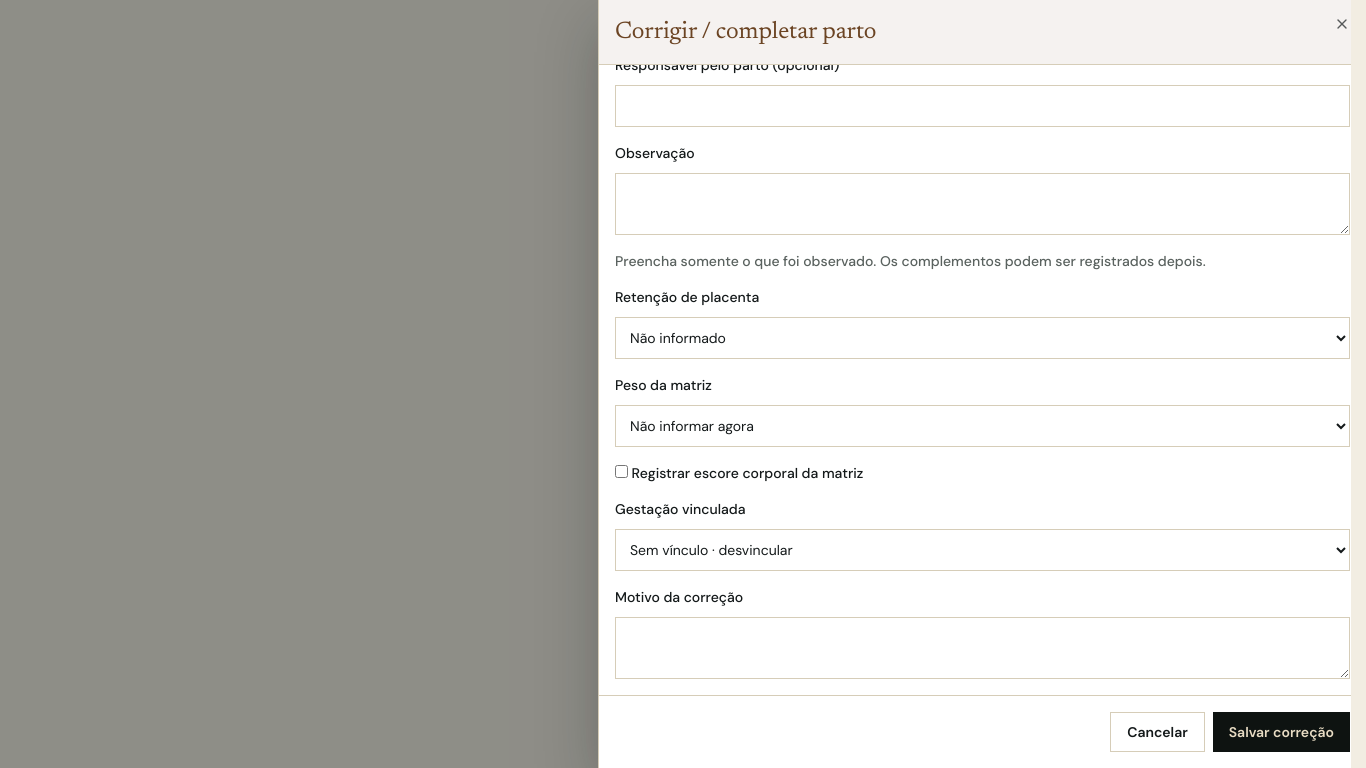
Scenario: exige explicação ao converter NORMAL ou alterar a observação para ''
(page scrolled)
Expected: the button "Salvar correção" is enabled, [1213,712,1350,752]
Type "Conferência do registro histórico" into the text box labelled "Motivo da correção" at [982, 648], box [615,617,1350,679]
(page scrolled)
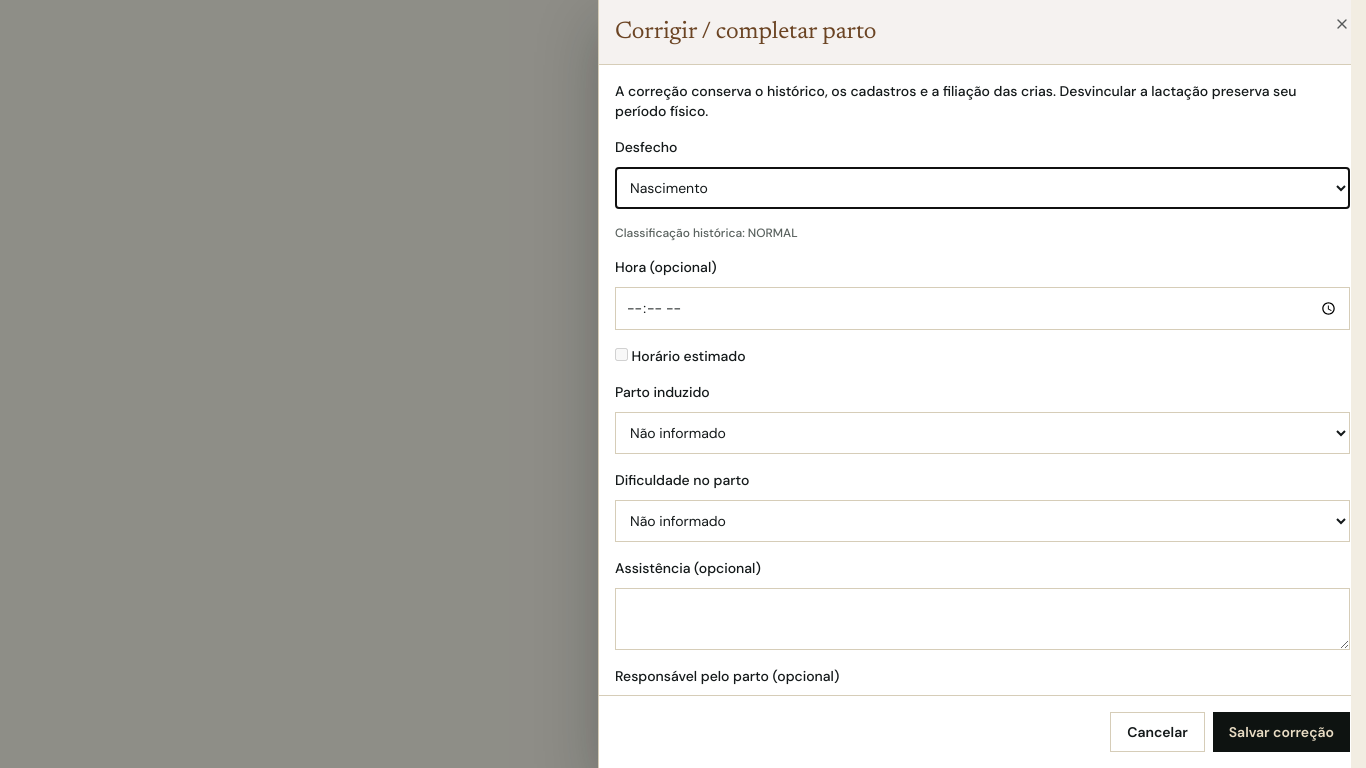
Select "Aborto" in the dropdown labelled "Desfecho" at [982, 188], box [615,167,1350,209]
(page scrolled)
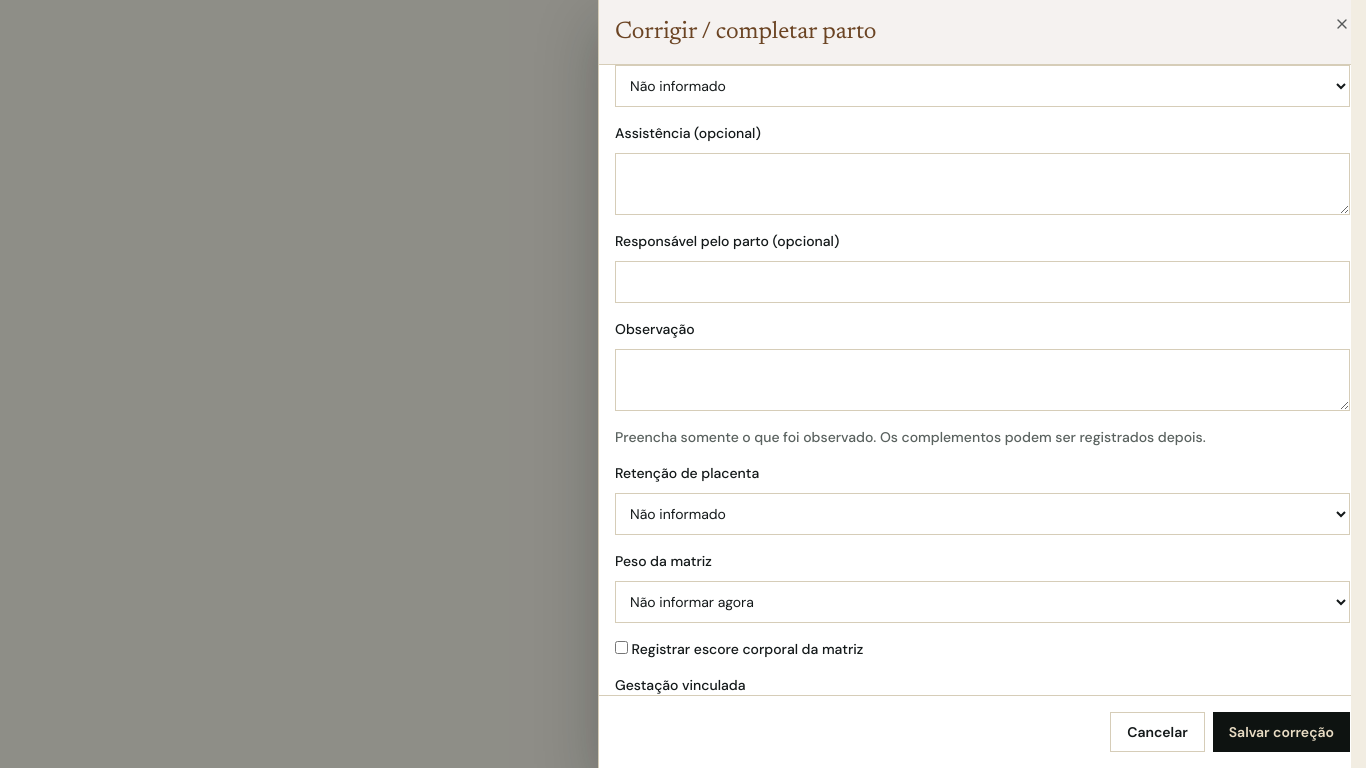
Clear the text box labelled "Observação" at [982, 380], box [615,349,1350,411]
(page scrolled)
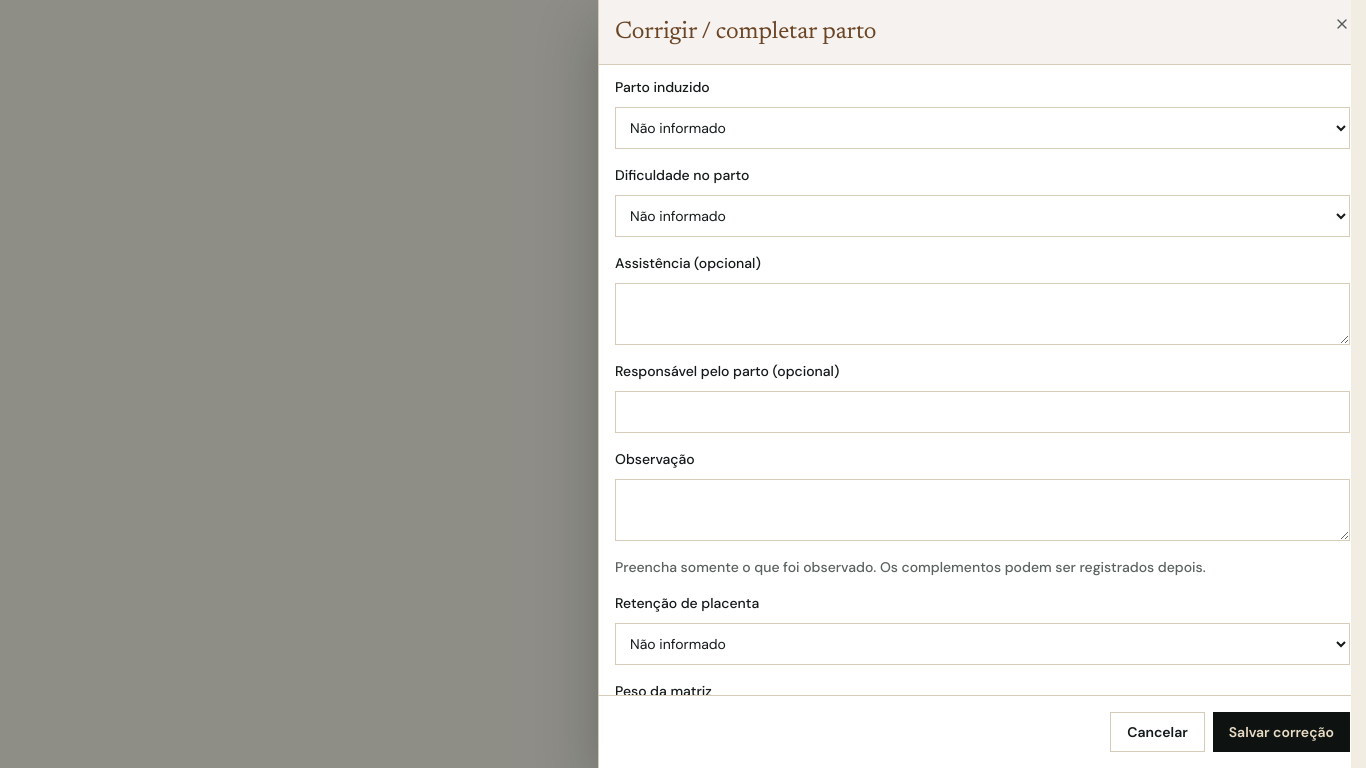
Submit the form with id "corrigir-fato-v4"
(page scrolled)
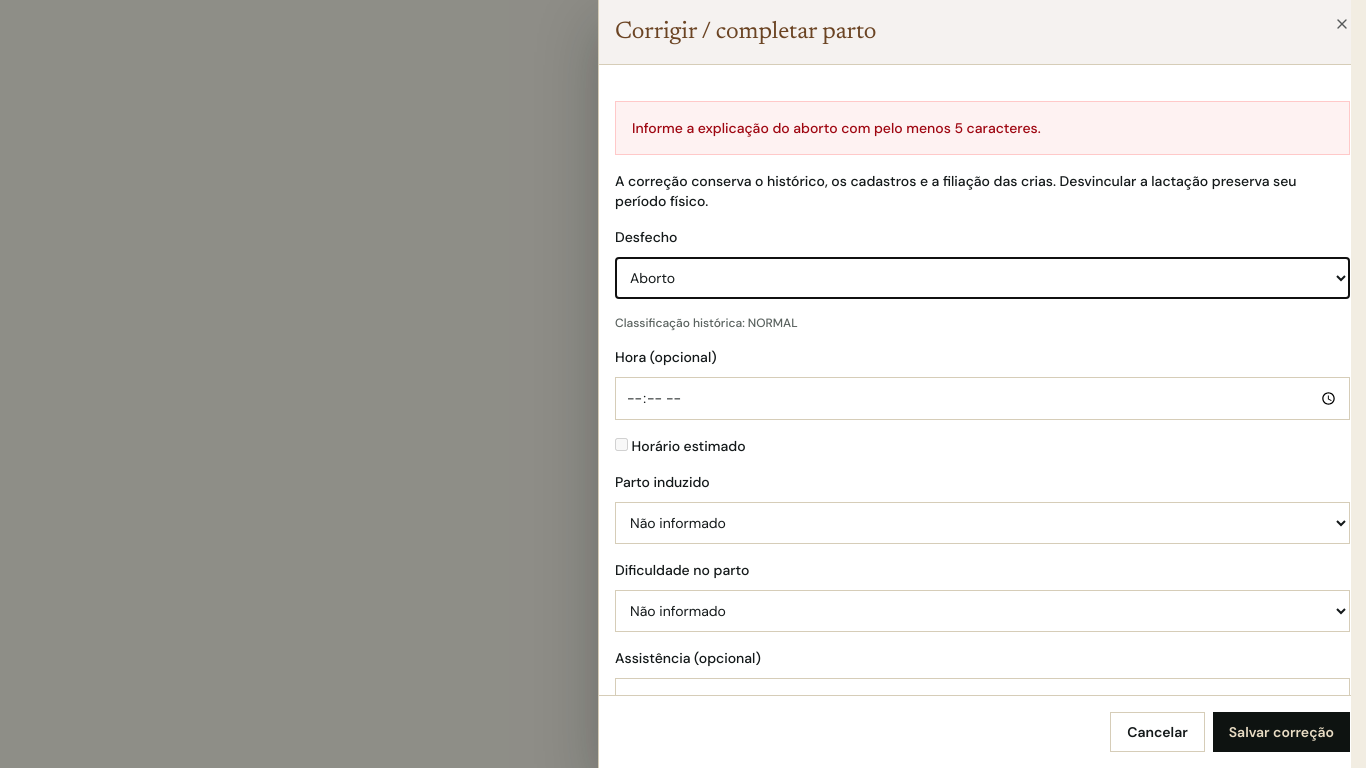
Expected: the text "Informe a explicação do aborto com pelo menos 5 caracteres." is shown, [615,101,1350,155]
